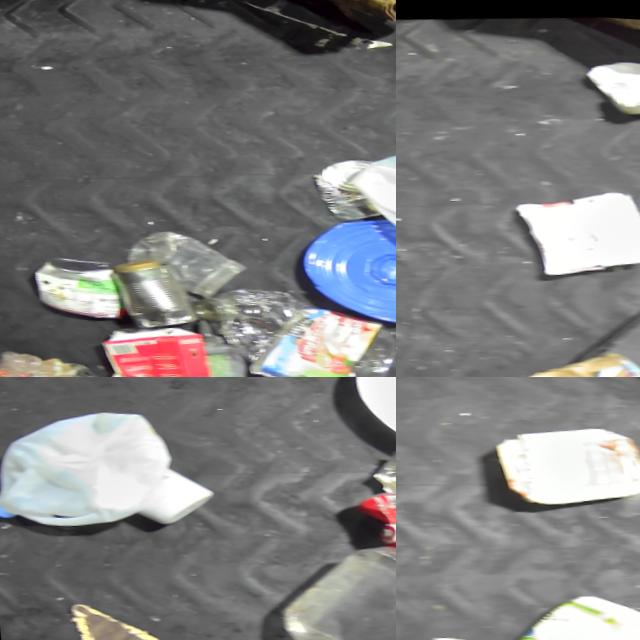can: (27, 250, 117, 322), (107, 257, 192, 329), (309, 151, 382, 218), (351, 482, 396, 548)
milk_jug: (0, 397, 179, 535), (491, 413, 640, 507), (343, 127, 396, 254)
non_white_jug: (92, 316, 240, 377)
